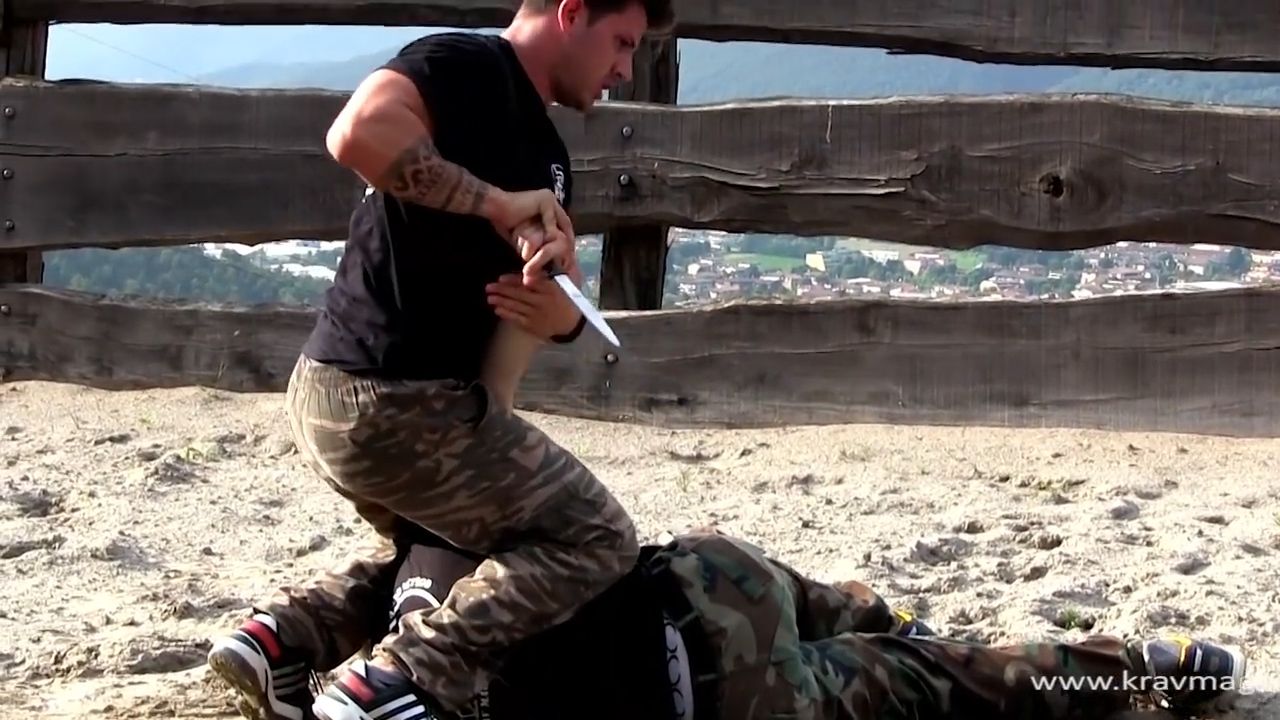knife: (512, 237, 631, 357)
